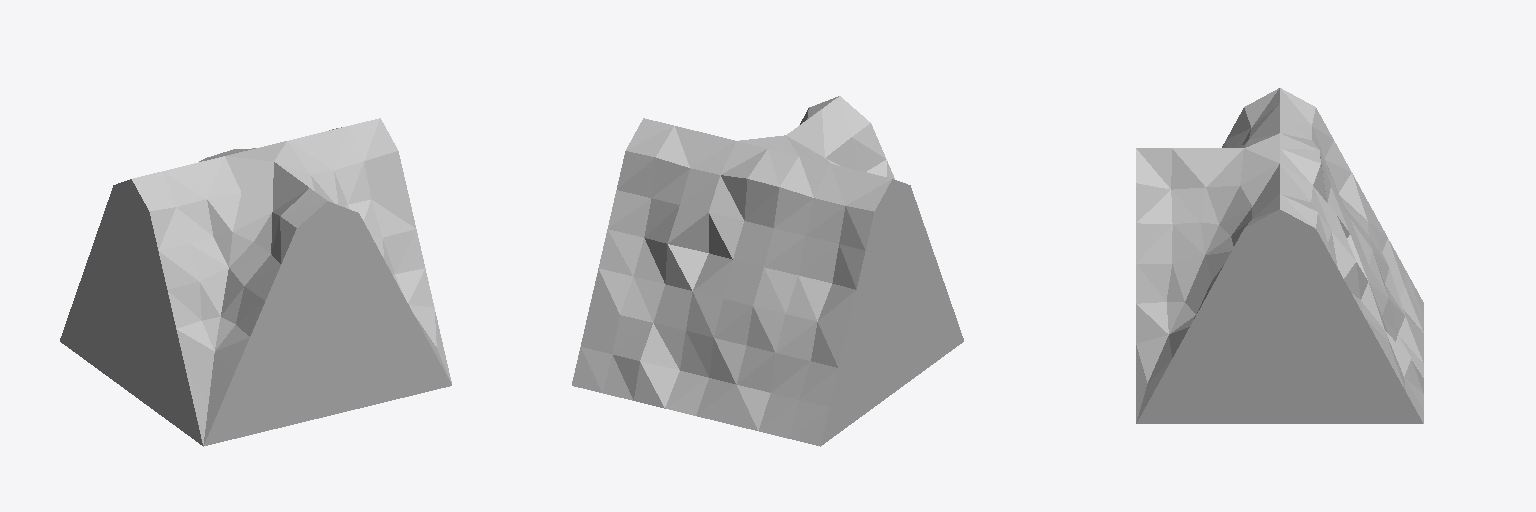
The model's file is wall_double_edge.obj.
3 renders of one model, left to right at view 1: azimuth 30°, elevation 25°; view 2: azimuth 150°, elevation 25°; view 3: azimuth 270°, elevation 25°, orthographic.
Visible parts, largest first — view 1: Cube.010_Cube.009; view 2: Cube.010_Cube.009; view 3: Cube.010_Cube.009.
Boxes of the visible parts, x1,y1,x2,y2 form: Cube.010_Cube.009: [60, 118, 451, 446]; Cube.010_Cube.009: [572, 96, 963, 446]; Cube.010_Cube.009: [1136, 88, 1423, 423].
Size of the model in its own units: 1 by 0.825 by 1.